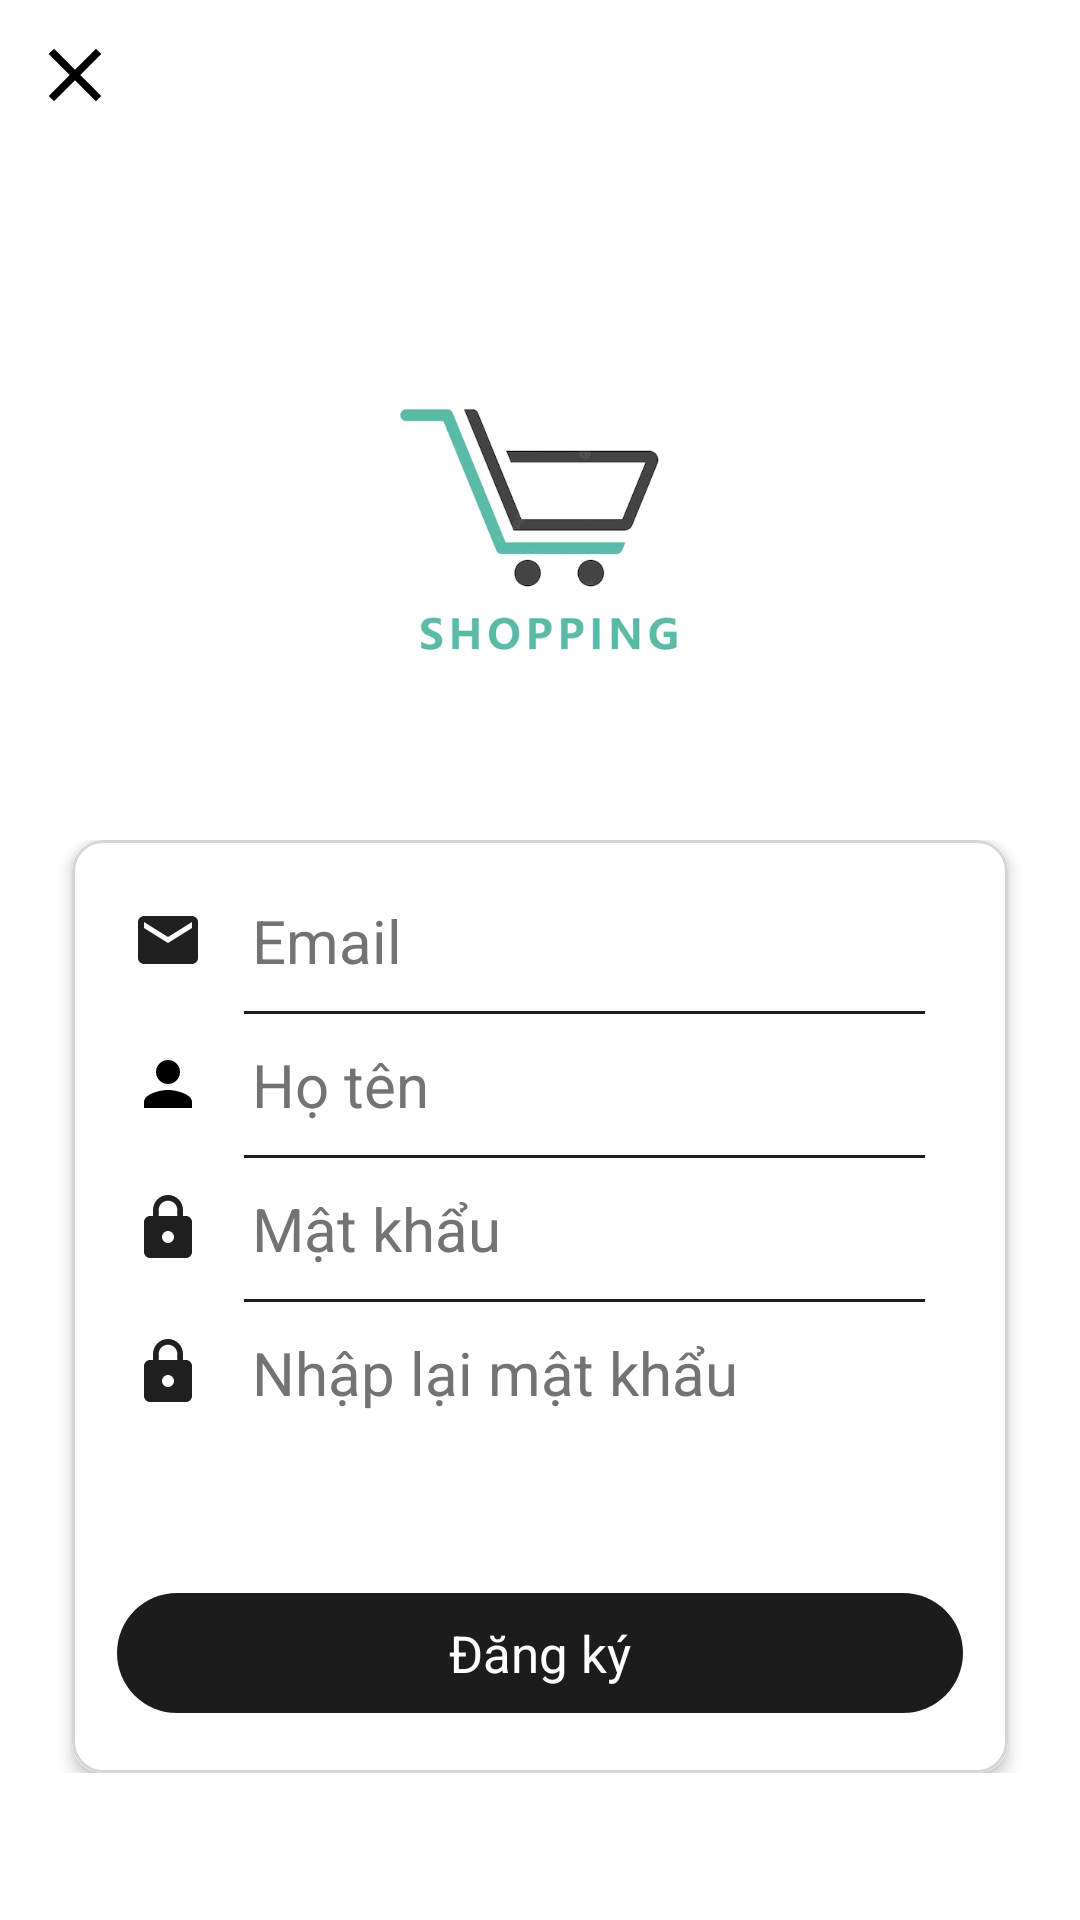

Icons on this 1080 x 1920 Android screen, each with the point to tap as (x=x, y=y):
close: (x=75, y=75)
